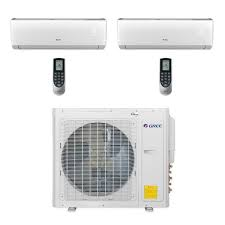ac: (114, 16, 218, 54), (8, 15, 109, 52)
